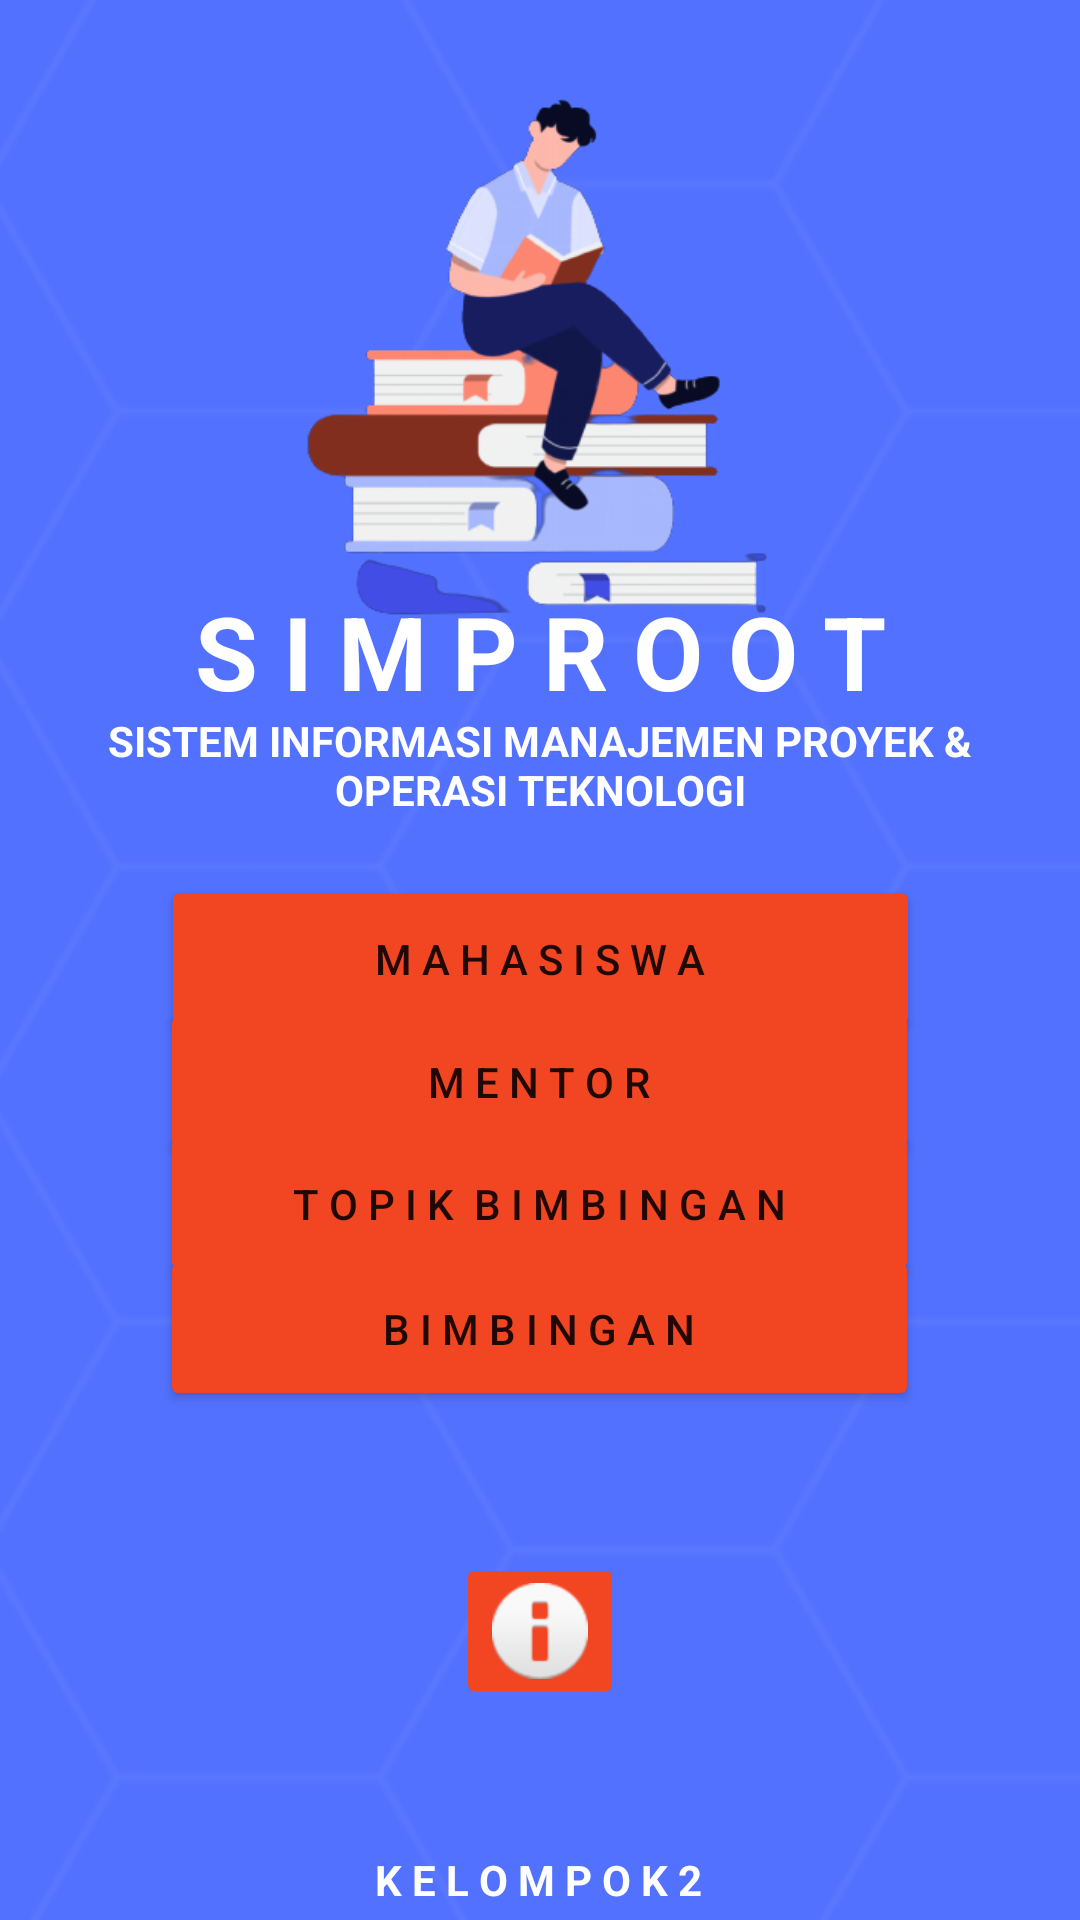

Named icons in this screenshot (1080×1920) and their bounding boxes, Rect(x1, y1, x2, y2):
info: Rect(468, 1571, 612, 1691)
